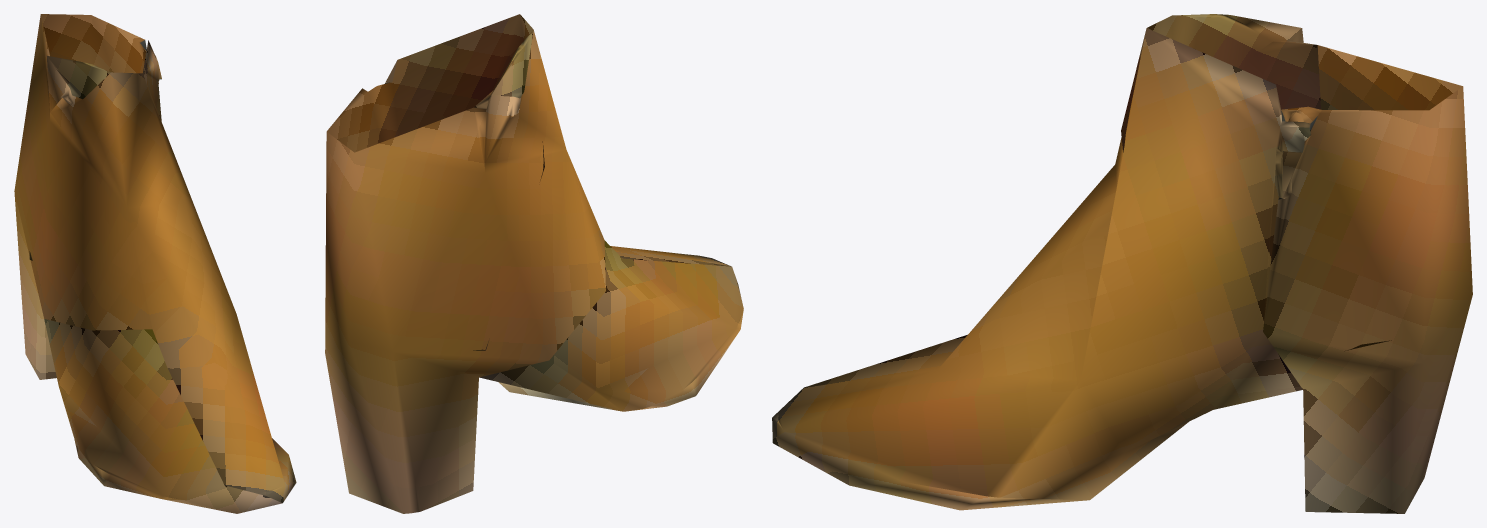
Rendered from Tory_Burch_Sabe_65mm_Bootie_Split_Suede_in_Caramel-low.glb.
3 renders of one model, left to right at view 1: azimuth 30°, elevation 25°; view 2: azimuth 150°, elevation 25°; view 3: azimuth 270°, elevation 25°, orthographic. The views are drawn at different scales.
Parts seen in each view (by area): view 1: Tory_Burch_Sabe_65mm_Bootie_Split_Suede_in_Caramel; view 2: Tory_Burch_Sabe_65mm_Bootie_Split_Suede_in_Caramel; view 3: Tory_Burch_Sabe_65mm_Bootie_Split_Suede_in_Caramel.
Part boxes in pixels (x1,y1,x2,y2): Tory_Burch_Sabe_65mm_Bootie_Split_Suede_in_Caramel: (14, 14, 296, 513); Tory_Burch_Sabe_65mm_Bootie_Split_Suede_in_Caramel: (325, 14, 743, 513); Tory_Burch_Sabe_65mm_Bootie_Split_Suede_in_Caramel: (772, 14, 1472, 513).
Bounding box in the file's own units: 0.0895 × 0.1788 × 0.249.
Materials: 1 (1 with a texture image).
